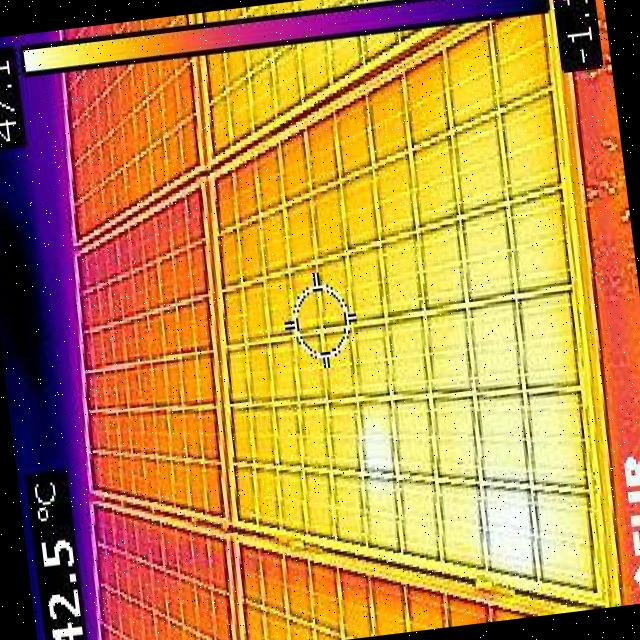Hotspot: (475, 479, 547, 578), (356, 400, 400, 477)
